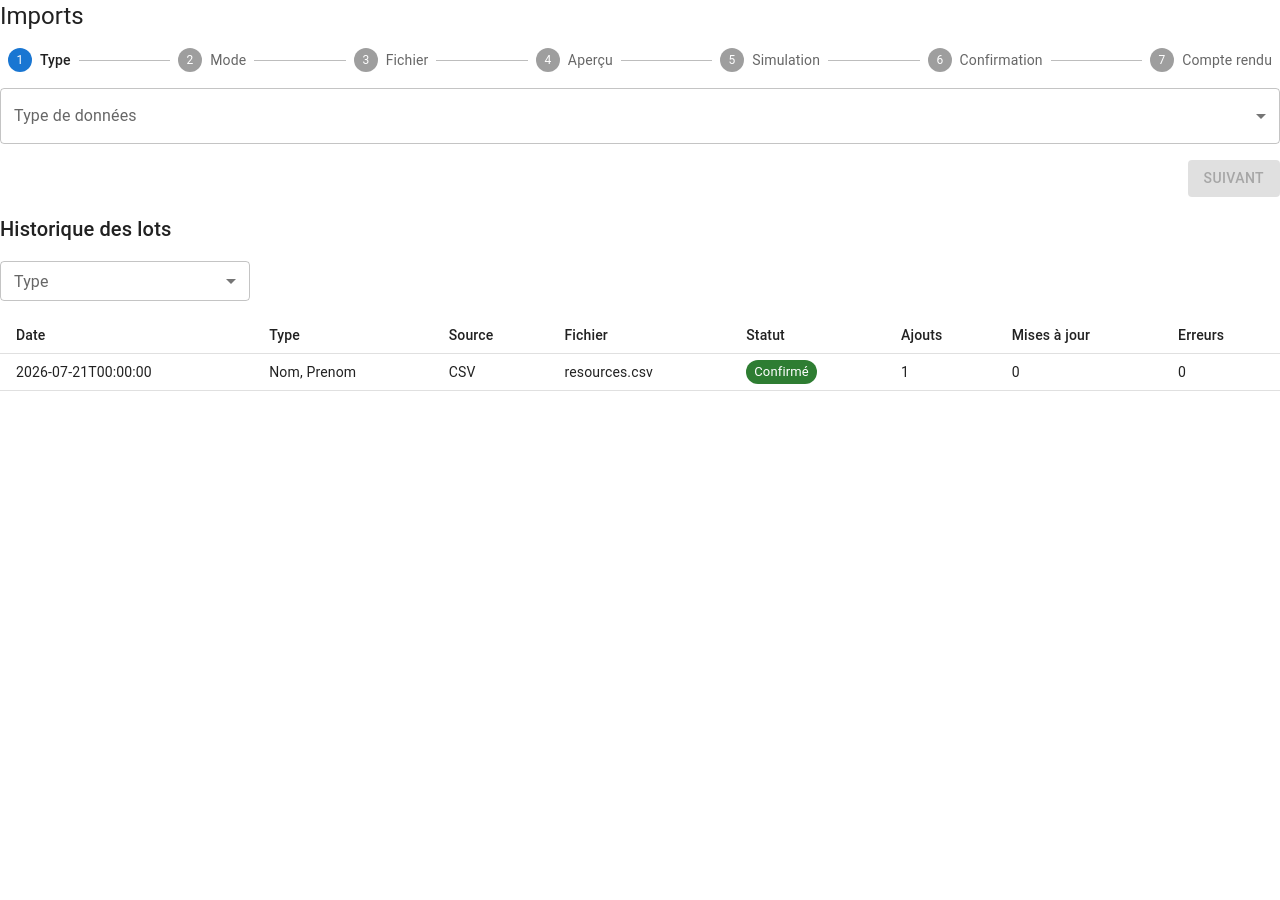
Test: ImportsPage › opens the diff viewer for a past batch
Click the text "resources.csv".
click(639, 372)  # box [548, 353, 730, 390]
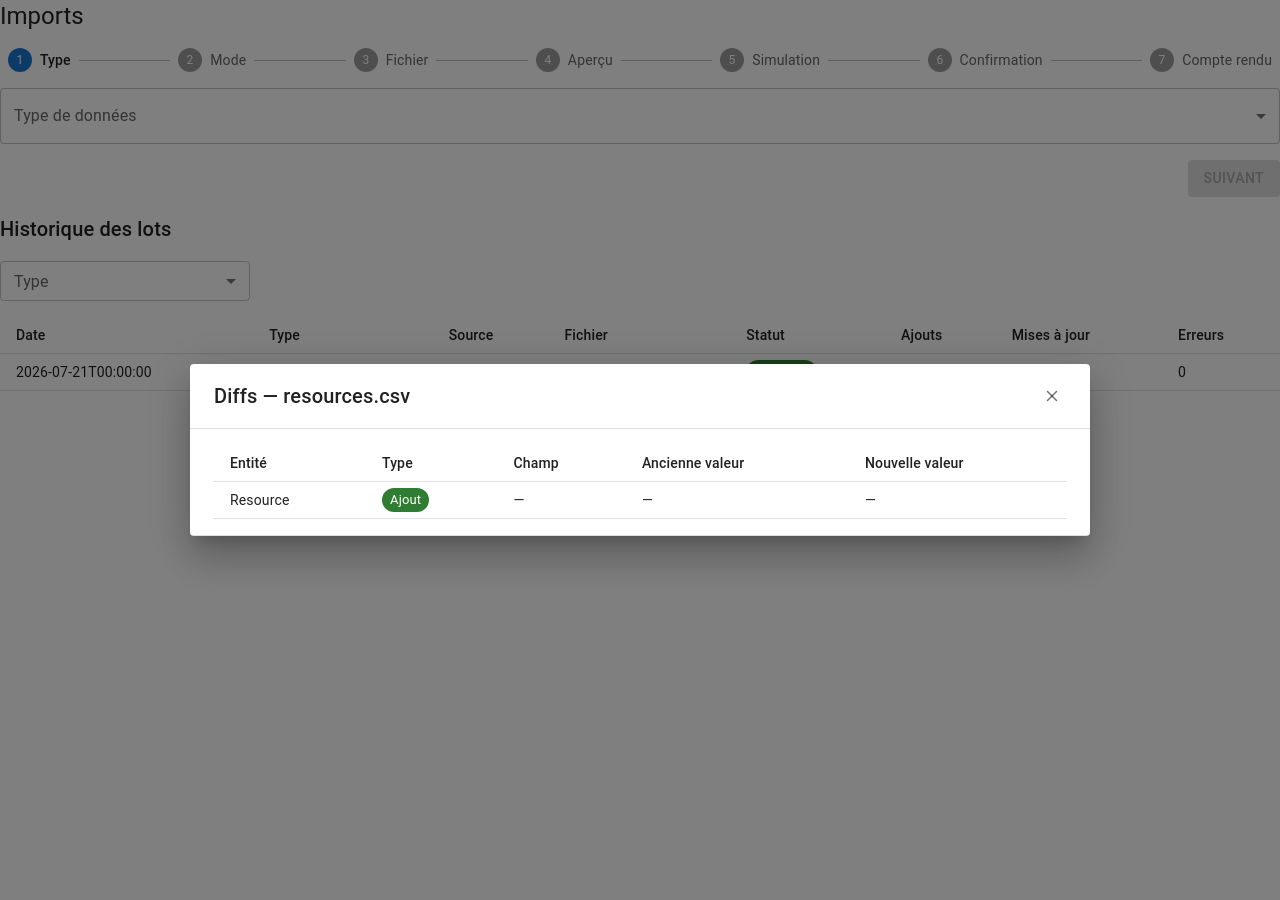
Result: the text "Resource" is shown at [214, 482, 366, 518]
